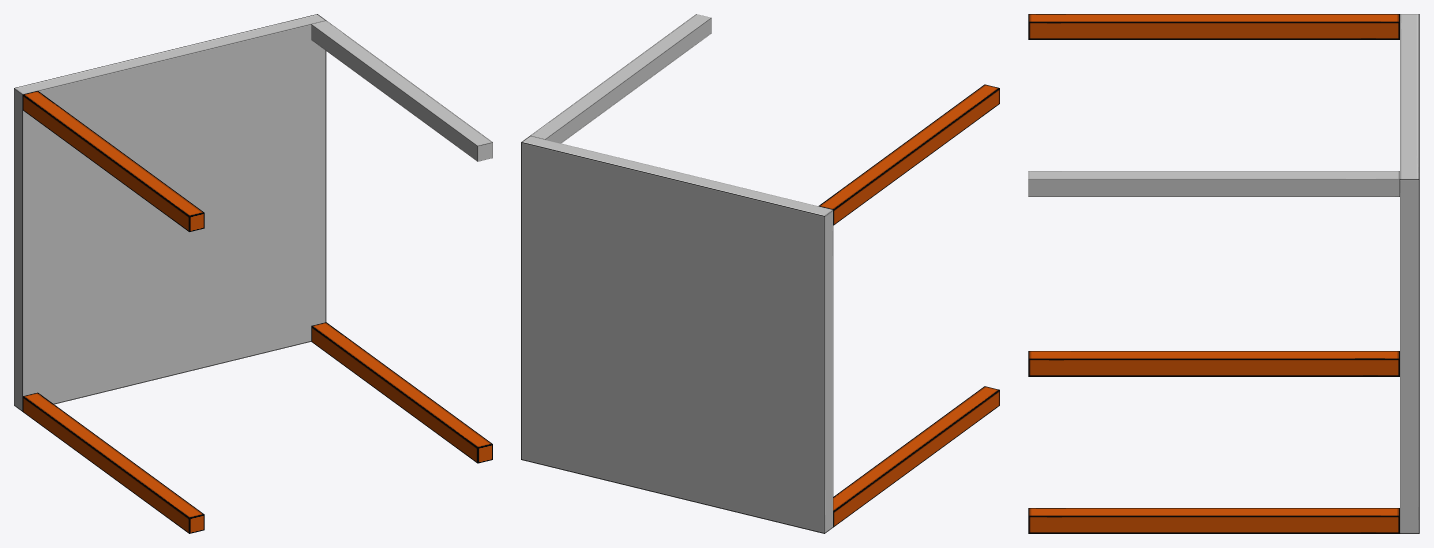
File: desk.dae
3 views of the same model, side by side, from view 1: azimuth 30°, elevation 25°; view 2: azimuth 150°, elevation 25°; view 3: azimuth 270°, elevation 25° (orthographic). The views are drawn at different scales.
Parts seen in each view (by area): view 1: desk-surface, leg_002, leg, leg_003, leg_001; view 2: desk-surface, leg_003, leg_002, leg; view 3: desk-surface, leg_003, leg_002, leg_001, leg.
Boxes of the visible parts, bbox=[...] form: desk-surface: bbox=[14, 14, 326, 411]; leg_002: bbox=[23, 392, 204, 533]; leg: bbox=[311, 20, 492, 161]; leg_003: bbox=[23, 91, 204, 231]; leg_001: bbox=[311, 322, 492, 463]; desk-surface: bbox=[521, 136, 833, 533]; leg_003: bbox=[818, 84, 999, 225]; leg_002: bbox=[833, 386, 999, 527]; leg: bbox=[530, 14, 711, 143]; desk-surface: bbox=[1400, 14, 1419, 533]; leg_003: bbox=[1028, 14, 1399, 39]; leg_002: bbox=[1028, 351, 1399, 376]; leg_001: bbox=[1028, 508, 1399, 533]; leg: bbox=[1028, 171, 1399, 196].
Bounding box in the file's own units: 2 × 2 × 2.
Materials: 5 (5 with a texture image).
